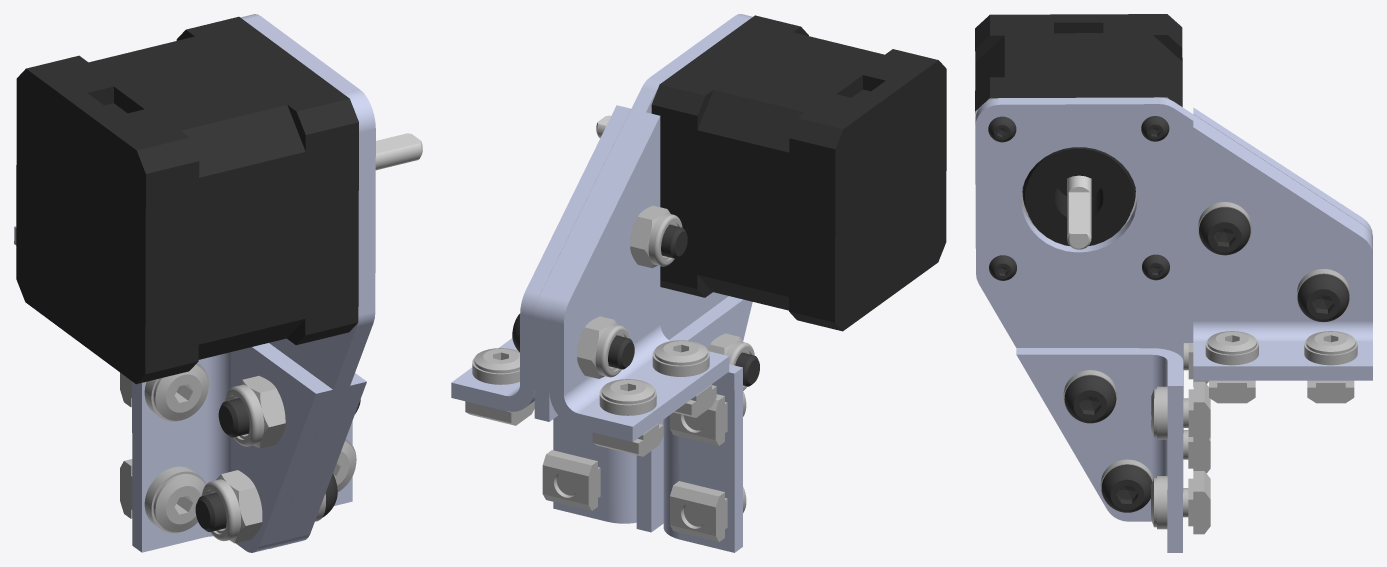
File: motor_mount_x.glb
The picture shows the model from 3 angles, left to right: view 1: azimuth 30°, elevation 25°; view 2: azimuth 150°, elevation 25°; view 3: azimuth 270°, elevation 25°; orthographic projection. The views are drawn at different scales.
Parts seen in each view (by area): view 1: motor_mount_x; view 2: motor_mount_x; view 3: motor_mount_x.
Part boxes in pixels (x1,y1,x2,y2): motor_mount_x: (14, 14, 422, 552); motor_mount_x: (451, 14, 946, 552); motor_mount_x: (975, 14, 1372, 552).
Bounding box in the file's own units: 0.063 × 0.092 × 0.0806.
